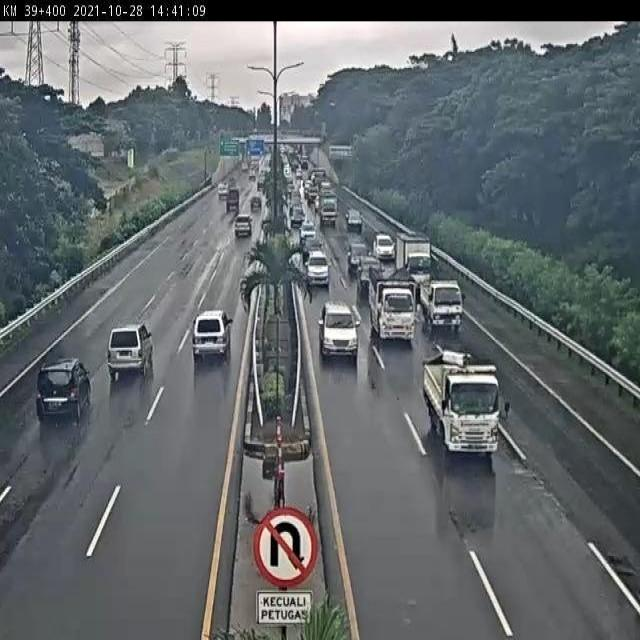Car: (36, 356, 92, 426), (107, 323, 154, 382), (318, 300, 360, 362), (192, 310, 232, 364), (355, 256, 387, 292), (305, 251, 330, 288), (346, 241, 372, 275), (372, 234, 396, 262), (302, 236, 324, 260), (300, 220, 316, 246), (234, 215, 252, 238), (345, 209, 363, 232), (289, 205, 305, 226), (250, 195, 262, 212), (218, 182, 228, 198)
Truck: (422, 350, 510, 458), (368, 264, 417, 342), (421, 278, 466, 334), (395, 230, 434, 288), (319, 194, 339, 227), (226, 187, 240, 212), (242, 161, 248, 173)
